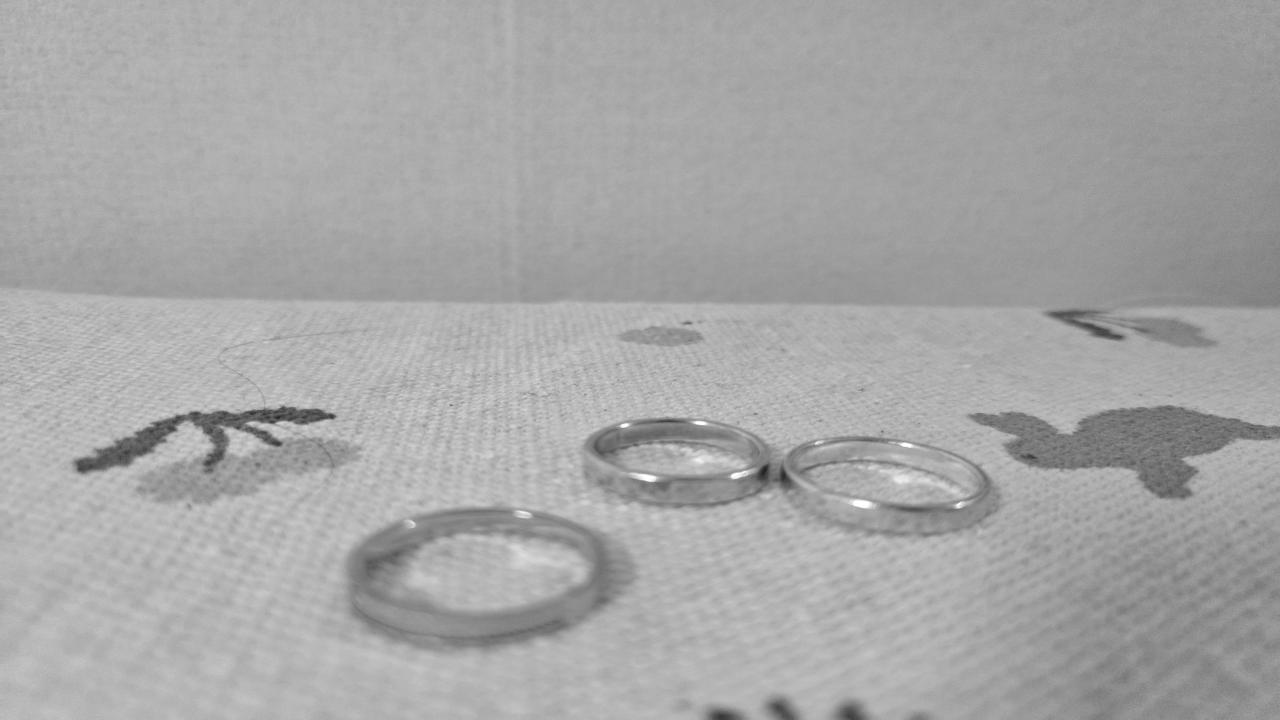ring: (342, 508, 614, 641), (780, 436, 1000, 534), (581, 417, 774, 507)
